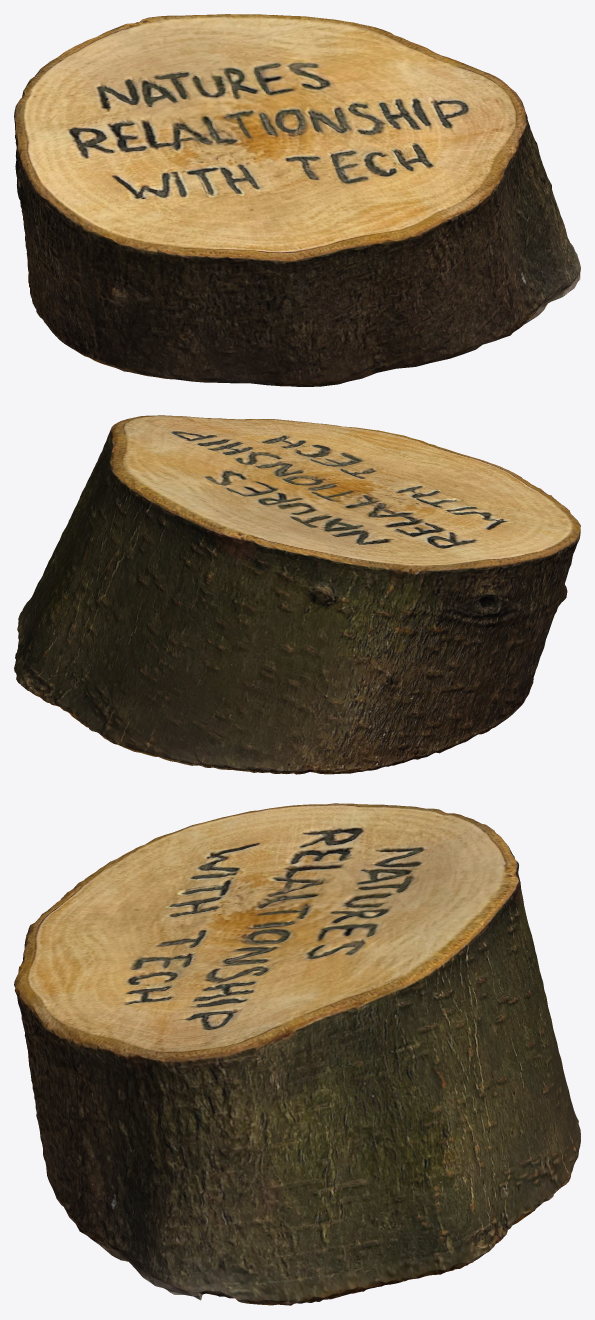
3 views of the same model, one above another, from view 1: azimuth 30°, elevation 25°; view 2: azimuth 150°, elevation 25°; view 3: azimuth 270°, elevation 25° (orthographic). The views are drawn at different scales.
Bounding box in the file's own units: 0.1318 × 0.0544 × 0.1074.
Materials: 1 (1 with a texture image).
